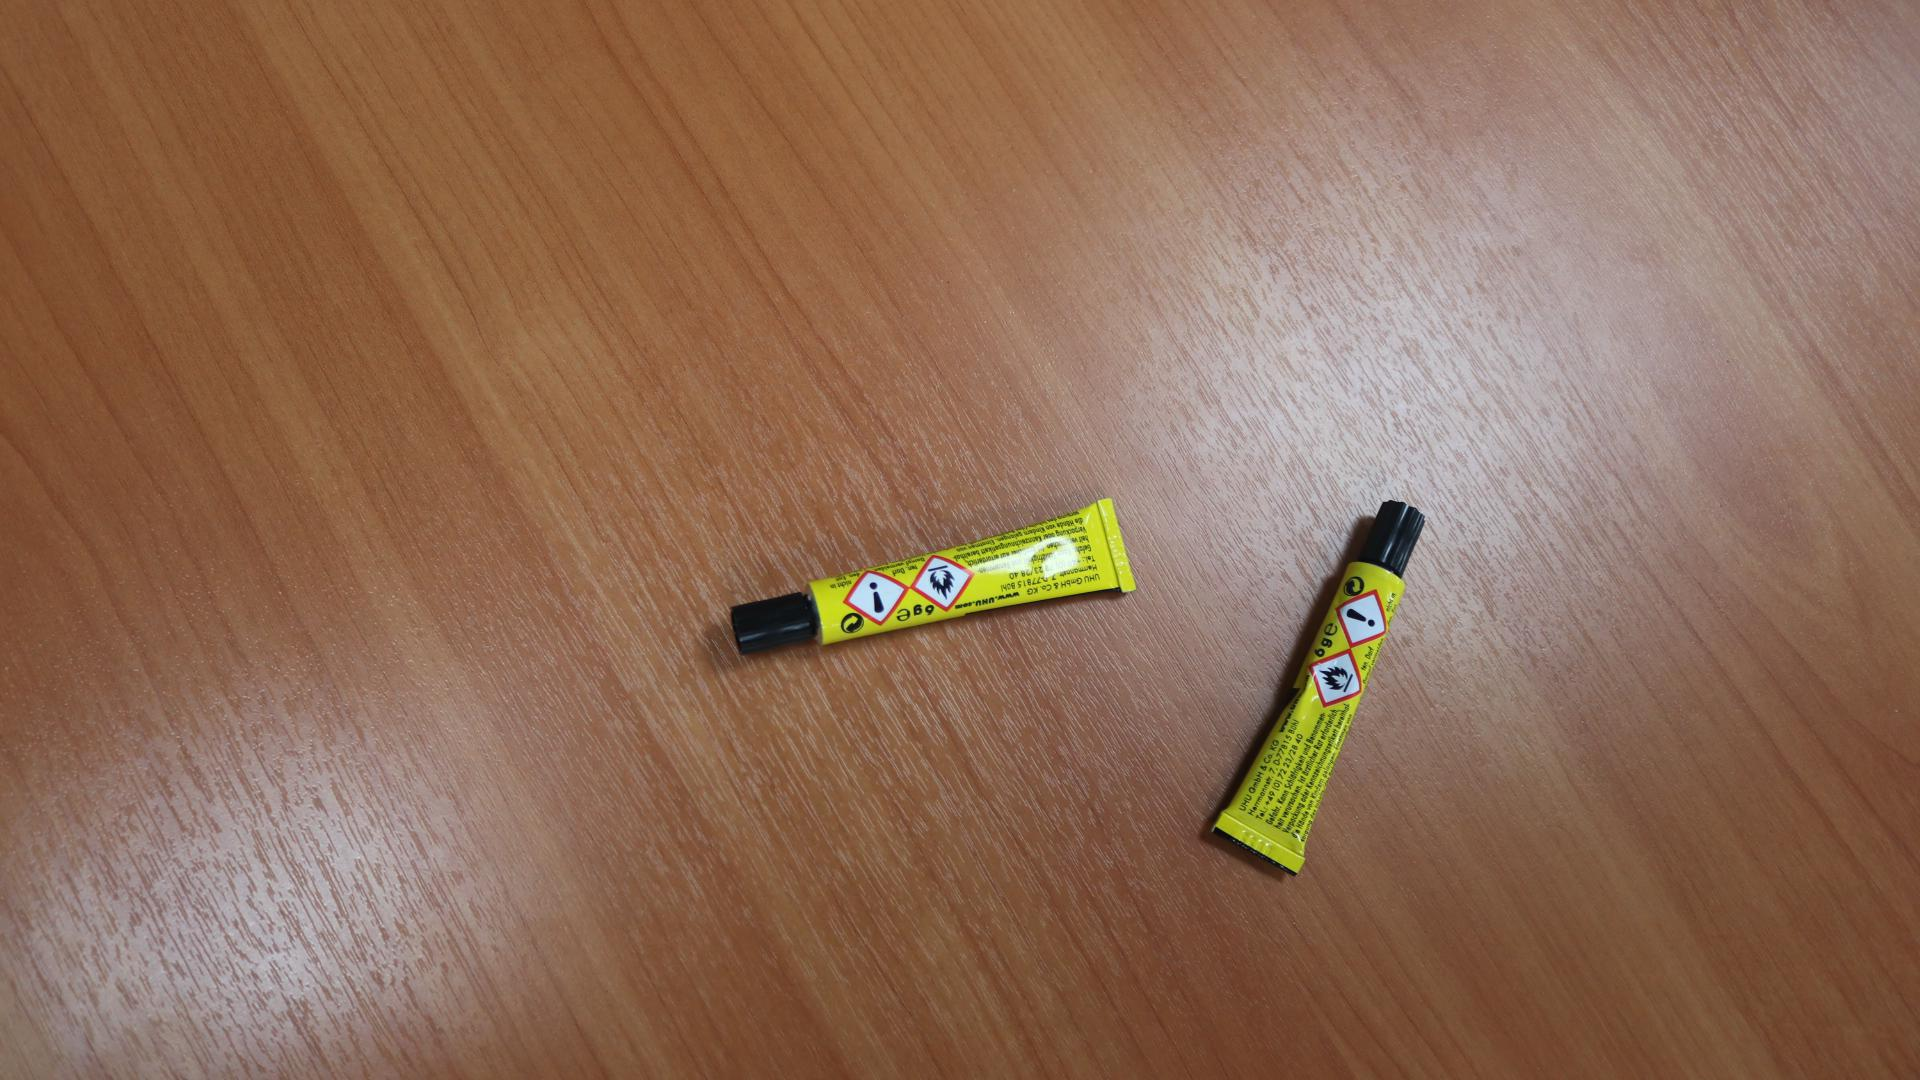Head: (1391, 531, 1402, 543), (770, 617, 780, 628)
Tail: (1258, 838, 1270, 853), (1113, 539, 1123, 552)
Tube: (1212, 499, 1424, 878), (728, 497, 1137, 655)
